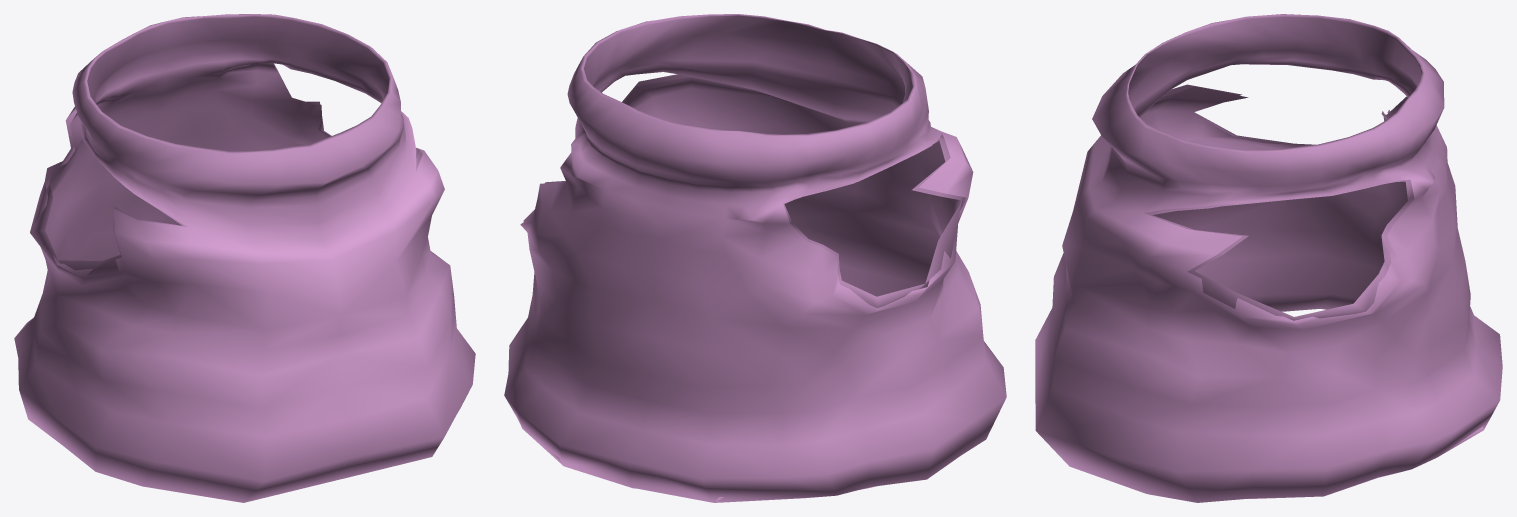
The model's file is ropa_jersey_cuello_alto.glb.
3 renders of one model, left to right at view 1: azimuth 30°, elevation 25°; view 2: azimuth 150°, elevation 25°; view 3: azimuth 270°, elevation 25°, orthographic. The views are drawn at different scales.
Visible parts, largest first — view 1: pieza; view 2: pieza; view 3: pieza.
Part boxes in pixels (x1=…): pieza: x1=14, y1=14, x2=475, y2=502; pieza: x1=504, y1=14, x2=1006, y2=502; pieza: x1=1035, y1=14, x2=1502, y2=502.
Bounding box in the file's own units: 0.9964 × 0.8164 × 0.9989.
